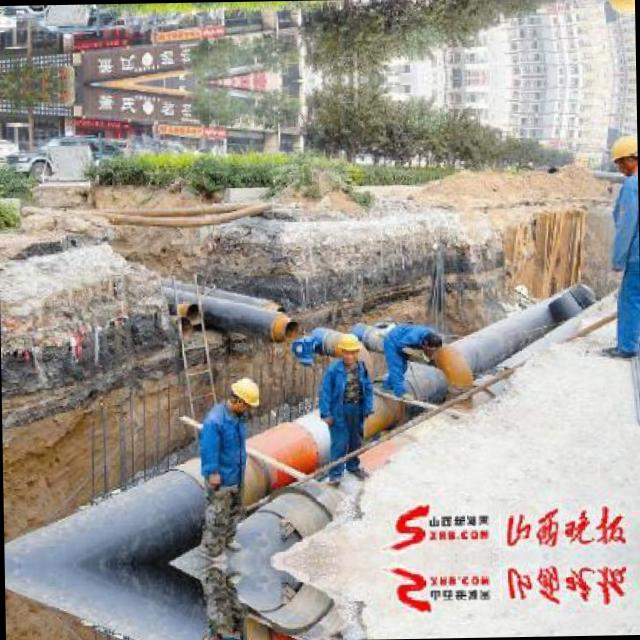helmet: (224, 374, 262, 414), (605, 130, 635, 176), (330, 333, 362, 368), (602, 0, 633, 20)
